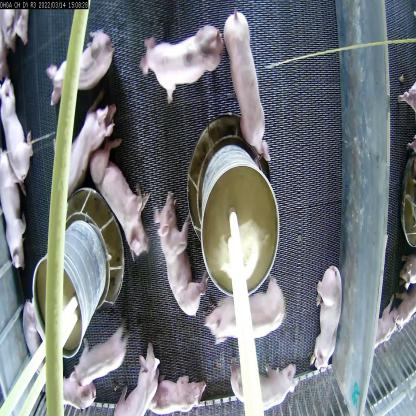Pig: (220, 16, 270, 160), (150, 194, 207, 317), (200, 282, 287, 354), (96, 156, 150, 254), (147, 28, 222, 98), (230, 352, 301, 415), (302, 260, 340, 372), (61, 102, 108, 192), (49, 36, 113, 101), (3, 86, 48, 178), (0, 148, 27, 276), (74, 336, 130, 394), (112, 348, 160, 415), (151, 371, 211, 415)
